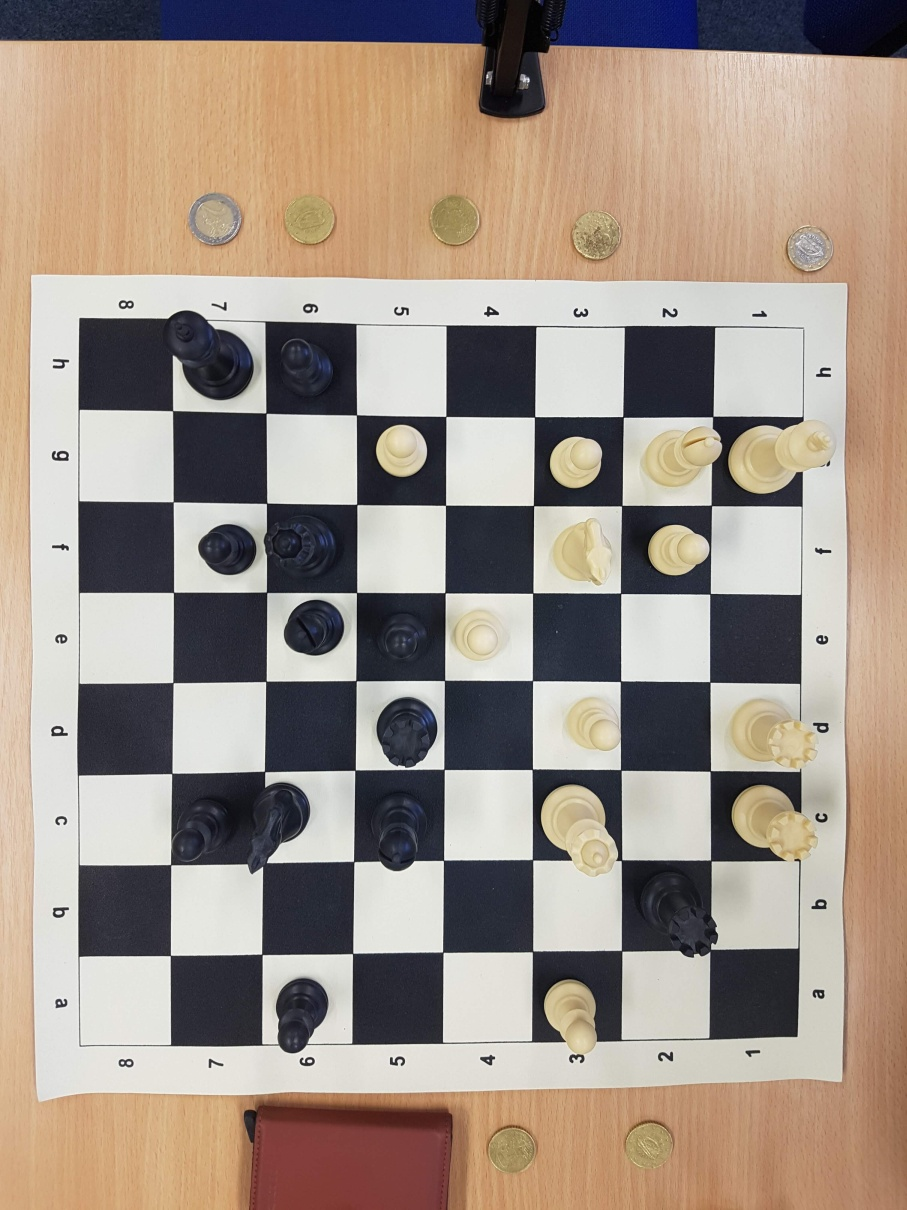chess_bishop: (646, 425, 721, 489), (370, 792, 428, 871), (284, 600, 346, 655)
chess_king: (165, 310, 254, 402), (727, 419, 833, 496)
chess_knight: (245, 782, 310, 876), (550, 519, 615, 584)
chess_pawn: (274, 978, 329, 1054), (543, 978, 598, 1054), (171, 799, 234, 861), (647, 523, 710, 577), (280, 339, 334, 398), (374, 422, 428, 478), (549, 435, 603, 491), (567, 695, 620, 751), (200, 524, 255, 575), (452, 610, 503, 661), (378, 614, 428, 665)
chess_queen: (538, 783, 618, 878), (266, 514, 338, 580)
chess_rook: (731, 785, 819, 862), (641, 872, 718, 958), (732, 699, 819, 769), (375, 696, 435, 765)
